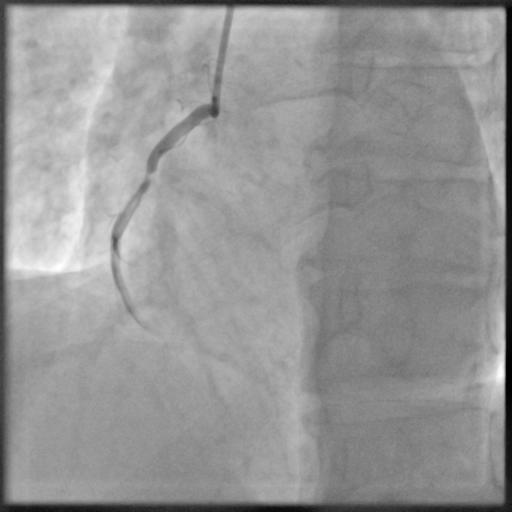Stenosis: (135, 165, 156, 182)
